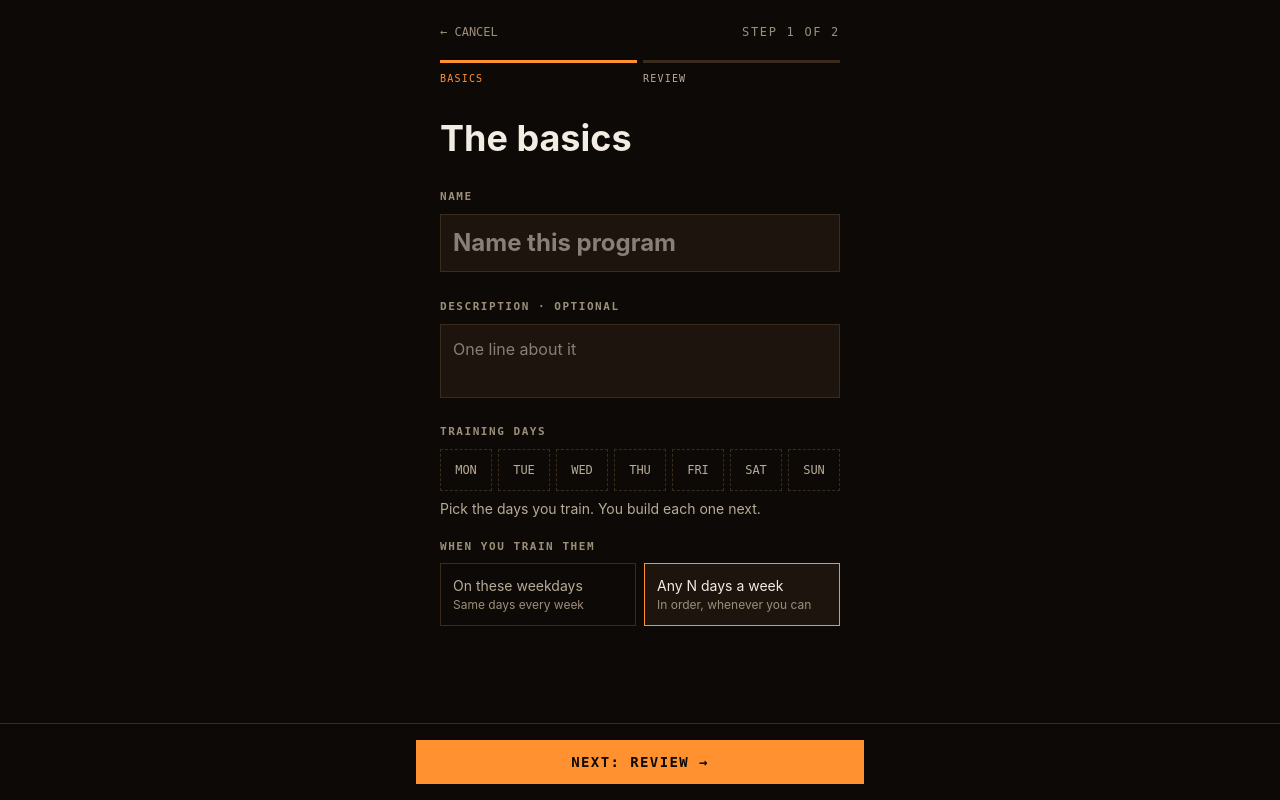
it: the wizard (DN-193) › refuses to save until the program is named and has a day
The image size is (1280, 800).
Expected: the field named "Program name" is shown, x1=440 y1=214 x2=840 y2=272
Click the button "Review" at (742, 73), box x1=643 y1=60 x2=840 y2=86
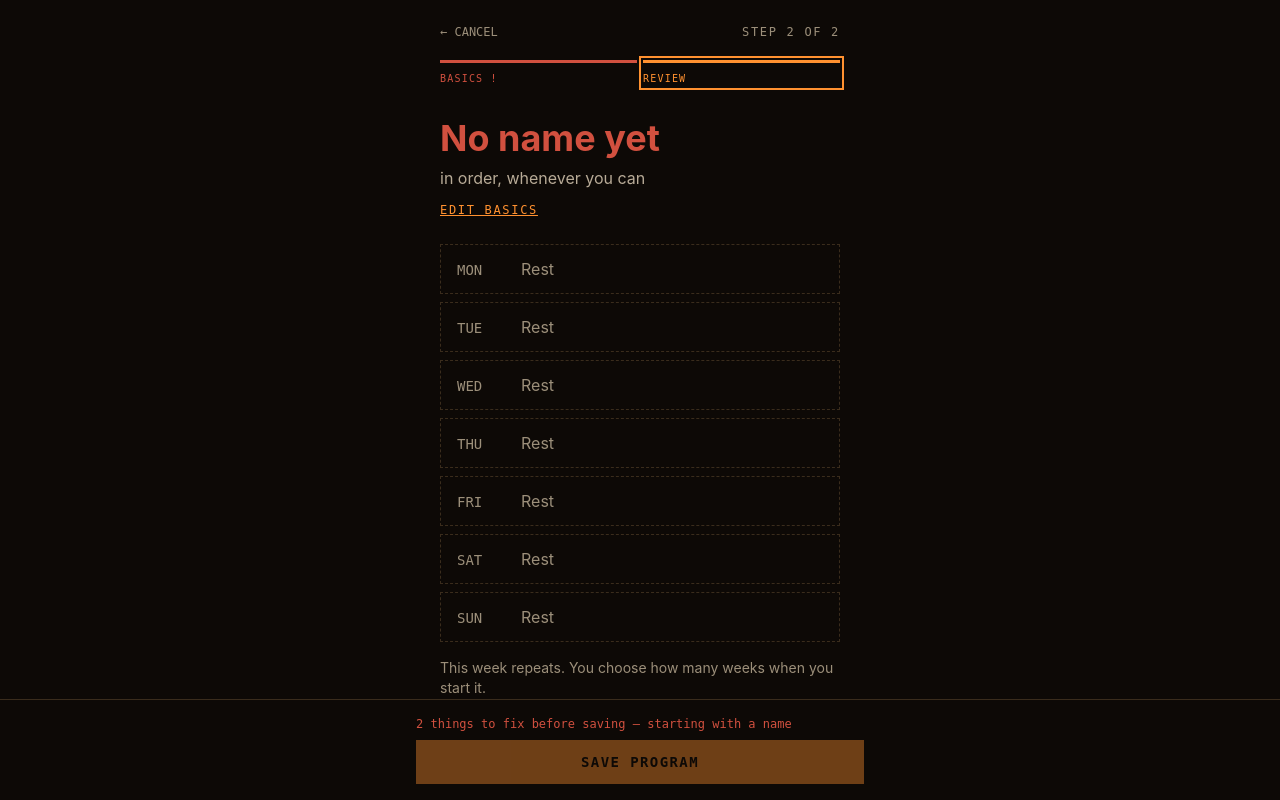
Expected: the button "Save program" is disabled, x1=416 y1=740 x2=864 y2=784
Expected: the text "2 things to fix before saving — starting with a name" is shown, x1=416 y1=717 x2=792 y2=731
